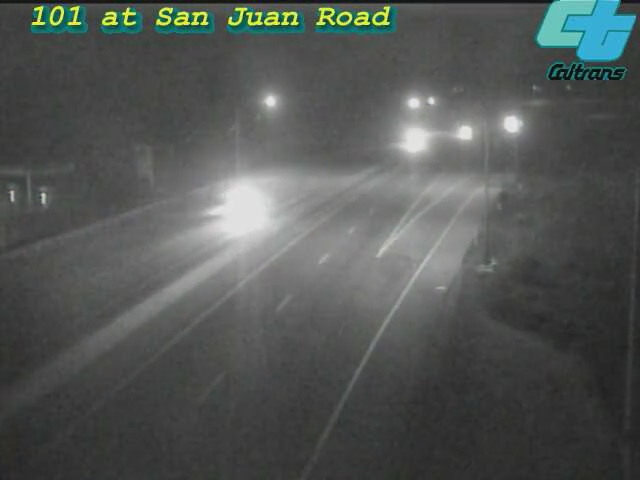vehicle: (199, 166, 279, 246), (387, 115, 437, 165), (439, 106, 489, 156), (484, 99, 534, 149)
